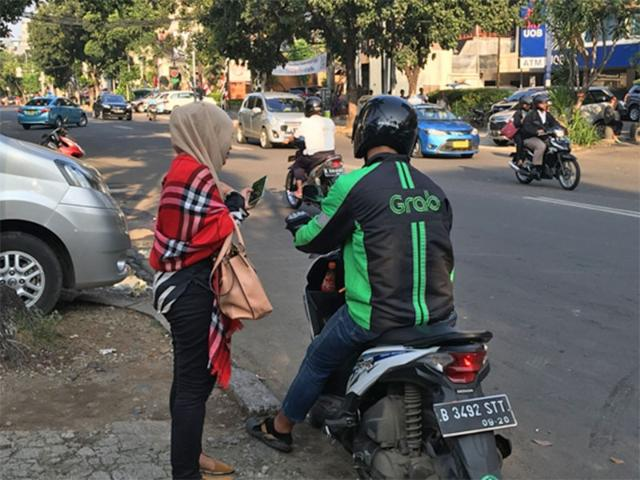helm: (353, 95, 419, 166), (305, 98, 325, 119), (535, 96, 552, 111), (520, 95, 534, 111)
motor: (283, 304, 530, 480), (508, 133, 584, 192), (285, 148, 346, 210)
non-helm: (169, 102, 240, 172)
